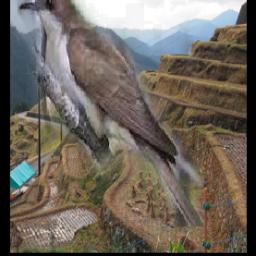Cuckoo: (18, 0, 204, 227)
